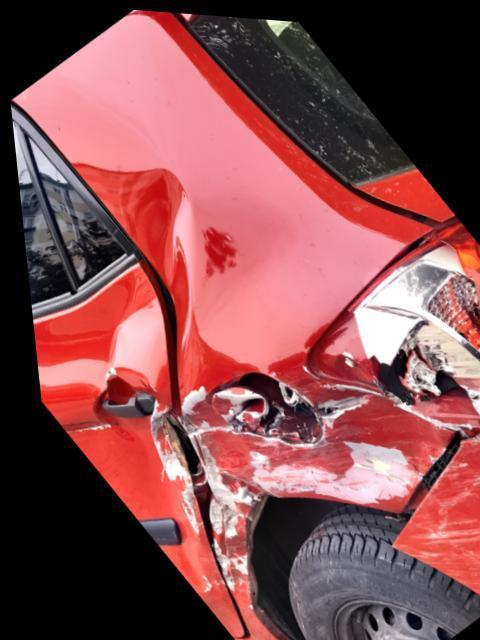dent: (189, 389, 439, 500), (73, 163, 195, 337), (26, 264, 147, 392)
dislocated part: (374, 418, 466, 546)
lamp broken: (311, 210, 480, 414)
no part: (203, 367, 313, 438)
scratch: (379, 441, 480, 594), (195, 462, 253, 586), (134, 396, 190, 524)
